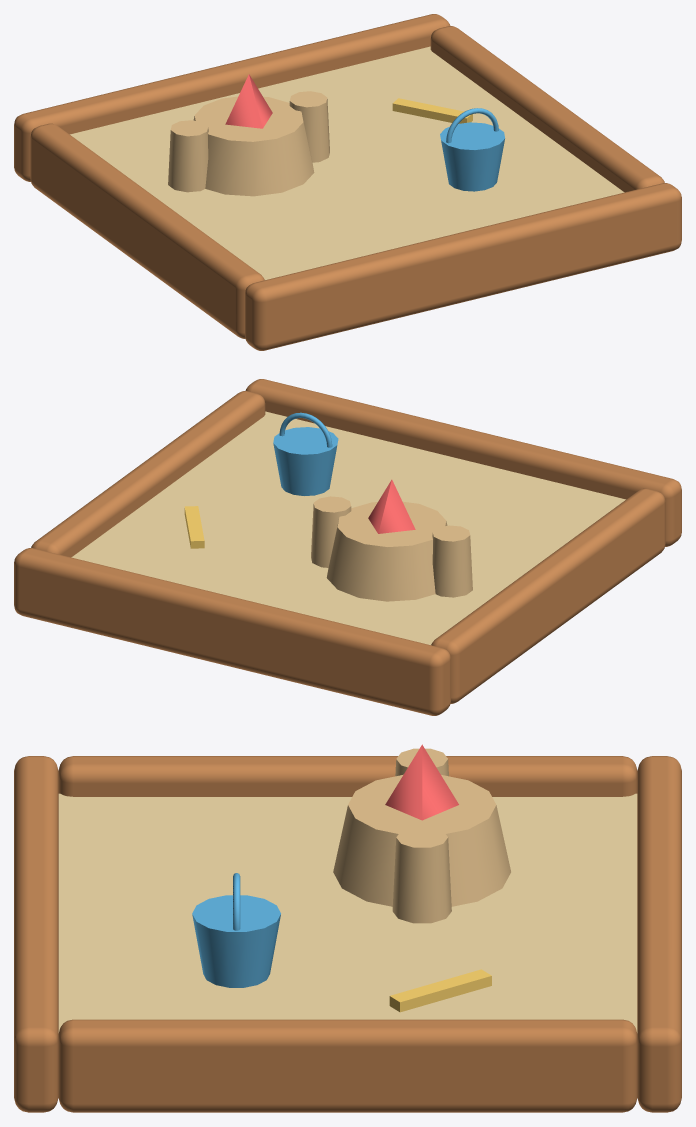
Rendered from ksandpit.glb.
3 views of the same model, one above another, from view 1: azimuth 30°, elevation 25°; view 2: azimuth 150°, elevation 25°; view 3: azimuth 270°, elevation 25° (orthographic). The views are drawn at different scales.
Bounding box in the file's own units: 1.8 × 0.55 × 1.8.
